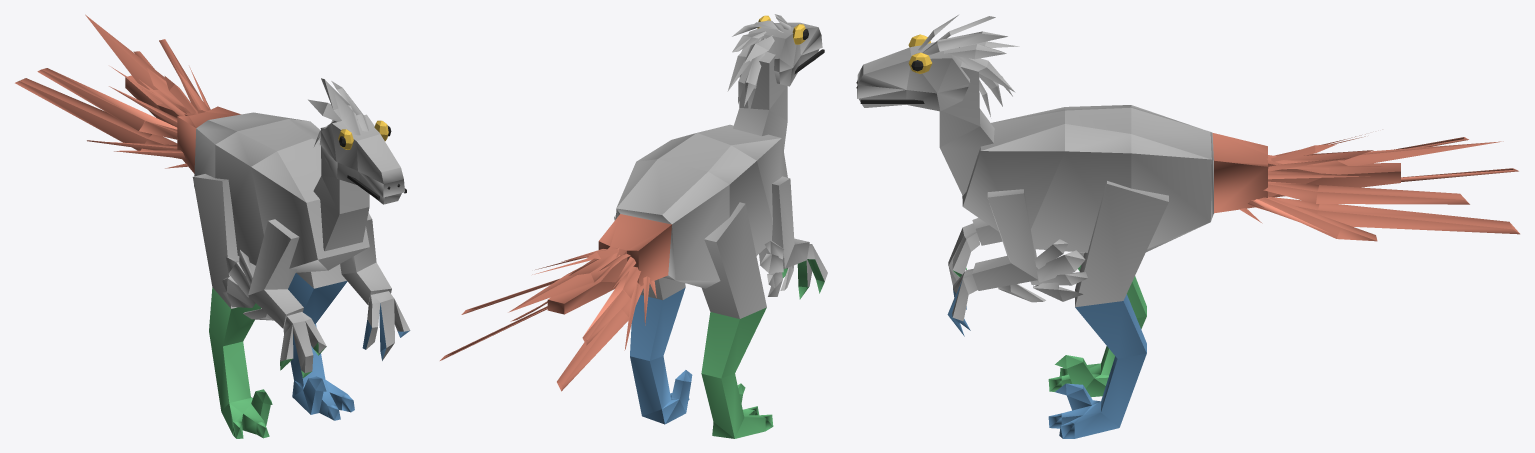
File: dromaeo.fbx
3 renders of one model, left to right at view 1: azimuth 30°, elevation 25°; view 2: azimuth 150°, elevation 25°; view 3: azimuth 270°, elevation 25°, orthographic. The views are drawn at different scales.
Visible parts, largest first — view 1: dromaeo_Body, dromaeo_Tail, dromaeo_LegR, dromaeo_LegL, dromaeo_Eyes; view 2: dromaeo_Body, dromaeo_Tail, dromaeo_LegR, dromaeo_LegL; view 3: dromaeo_Body, dromaeo_Tail, dromaeo_LegL, dromaeo_LegR.
Part boxes in pixels (left/top/right/bottom): dromaeo_Body: left=192, top=78, right=410, bottom=372; dromaeo_Tail: left=15, top=14, right=240, bottom=173; dromaeo_LegR: left=209, top=287, right=325, bottom=438; dromaeo_LegL: left=288, top=273, right=409, bottom=420; dromaeo_Eyes: left=338, top=120, right=388, bottom=149; dromaeo_Body: left=614, top=14, right=827, bottom=318; dromaeo_Tail: left=440, top=214, right=671, bottom=391; dromaeo_LegR: left=701, top=259, right=824, bottom=438; dromaeo_LegL: left=630, top=287, right=692, bottom=424; dromaeo_Body: left=857, top=15, right=1213, bottom=321; dromaeo_Tail: left=1212, top=133, right=1519, bottom=241; dromaeo_LegL: left=947, top=280, right=1146, bottom=438; dromaeo_LegR: left=953, top=265, right=1146, bottom=397.
Bounding box in the file's own units: 2.24 × 6.15 × 9.44.
